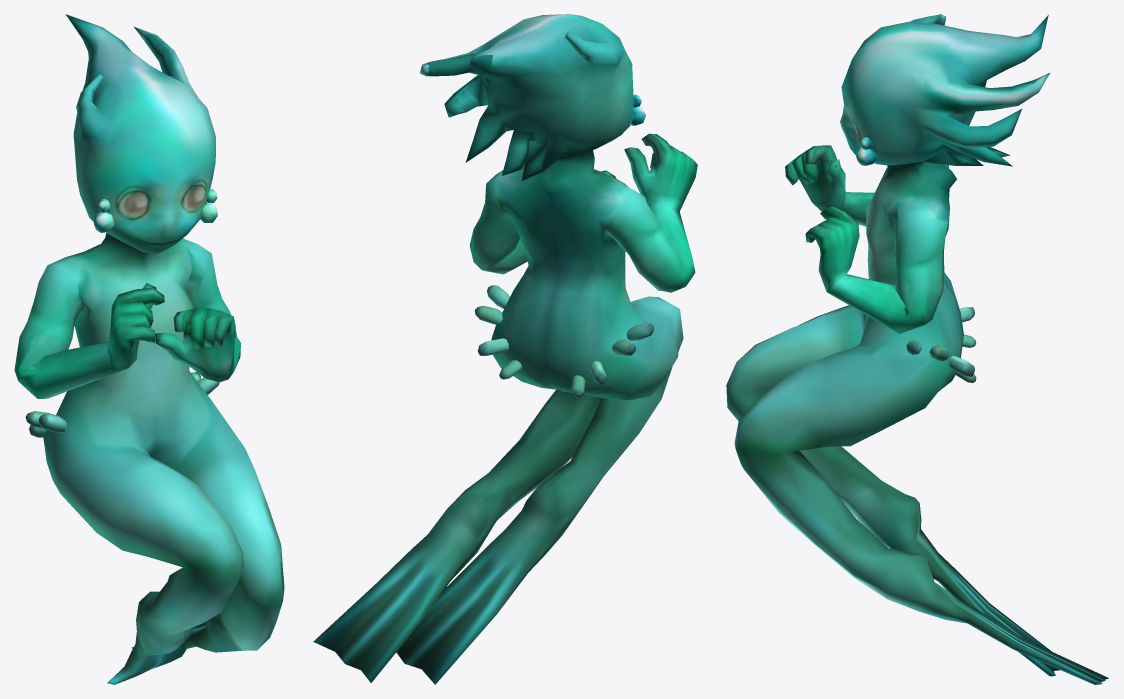
The model's file is Aqualing.fbx.
3 views of the same model, side by side, from view 1: azimuth 30°, elevation 25°; view 2: azimuth 150°, elevation 25°; view 3: azimuth 270°, elevation 25° (orthographic). The views are drawn at different scales.
Visible parts, largest first — view 1: Body; view 2: Body; view 3: Body.
Boxes of the visible parts, x1,y1,x2,y2 form: Body: (14, 14, 284, 684); Body: (313, 14, 697, 684); Body: (726, 14, 1108, 684).
Bounding box in the file's own units: 569 × 1268 × 703.
Materials: 1 (1 with a texture image).
